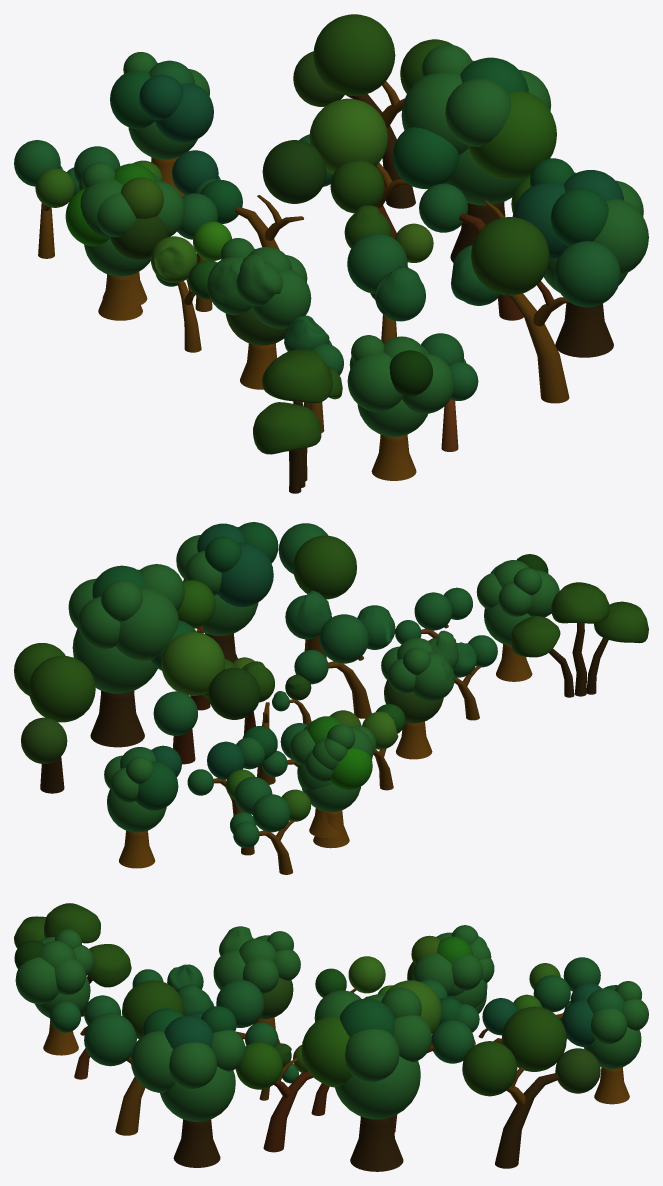
File: BloccoEnormeDiAlberiDietro.fbx
The picture shows the model from 3 angles, top to bottom: view 1: azimuth 30°, elevation 25°; view 2: azimuth 150°, elevation 25°; view 3: azimuth 270°, elevation 25°; orthographic projection. The views are drawn at different scales.
Parts seen in each view (by area): view 1: Sphere.117, Sphere.114, Sphere.122, Sphere.144, Sphere.113, Sphere.126, Sphere.108, Sphere.145, Cylinder.027, Cylinder.030, Sphere.124, Sphere.142 (+59 smaller); view 2: Sphere.117, Sphere.114, Sphere.144, Sphere.124, Sphere.119, Sphere.140, Tree1.007, Sphere.108, Cylinder.027, Sphere.091, Sphere.116, Cylinder.030 (+67 smaller); view 3: Sphere.117, Sphere.119, Sphere.122, Sphere.135, Sphere.118, Sphere.123, Sphere.113, Tree1.007, Sphere.138, Sphere.114, Sphere.139, Tree4.017 (+57 smaller).
Part boxes in pixels (box(x1,y1,x2,y2)): Sphere.117: box(313, 14, 395, 95); Sphere.114: box(471, 217, 549, 295); Sphere.122: box(468, 91, 556, 179); Sphere.144: box(309, 98, 387, 173); Sphere.113: box(554, 241, 620, 307); Sphere.126: box(445, 78, 511, 146); Sphere.108: box(262, 140, 326, 203); Sphere.145: box(392, 127, 458, 189); Cylinder.027: box(262, 349, 332, 403); Cylinder.030: box(253, 402, 321, 454); Sphere.124: box(401, 73, 468, 154); Sphere.142: box(550, 188, 608, 246); Sphere.117: box(29, 655, 95, 722); Sphere.114: box(293, 535, 356, 599); Sphere.144: box(161, 632, 225, 695); Sphere.124: box(115, 587, 179, 660); Sphere.119: box(72, 628, 157, 693); Sphere.140: box(218, 542, 273, 606); Tree1.007: box(90, 690, 144, 747); Sphere.108: box(208, 668, 260, 719); Cylinder.027: box(551, 582, 609, 623); Sphere.091: box(319, 614, 368, 663); Sphere.116: box(21, 717, 67, 763); Cylinder.030: box(594, 601, 648, 643); Sphere.117: box(501, 1006, 566, 1071); Sphere.119: box(334, 1056, 420, 1119); Sphere.122: box(301, 1016, 352, 1086); Sphere.135: box(160, 1066, 235, 1121); Sphere.118: box(462, 1041, 517, 1096); Sphere.123: box(345, 1029, 399, 1081); Sphere.113: box(84, 1013, 136, 1066); Tree1.007: box(350, 1116, 403, 1171); Sphere.138: box(131, 1031, 175, 1092); Sphere.114: box(122, 980, 184, 1038); Sphere.139: box(169, 1042, 216, 1088); Tree4.017: box(495, 1073, 558, 1168).
Bounding box in the file's own units: 8191 × 3462 × 11403.
